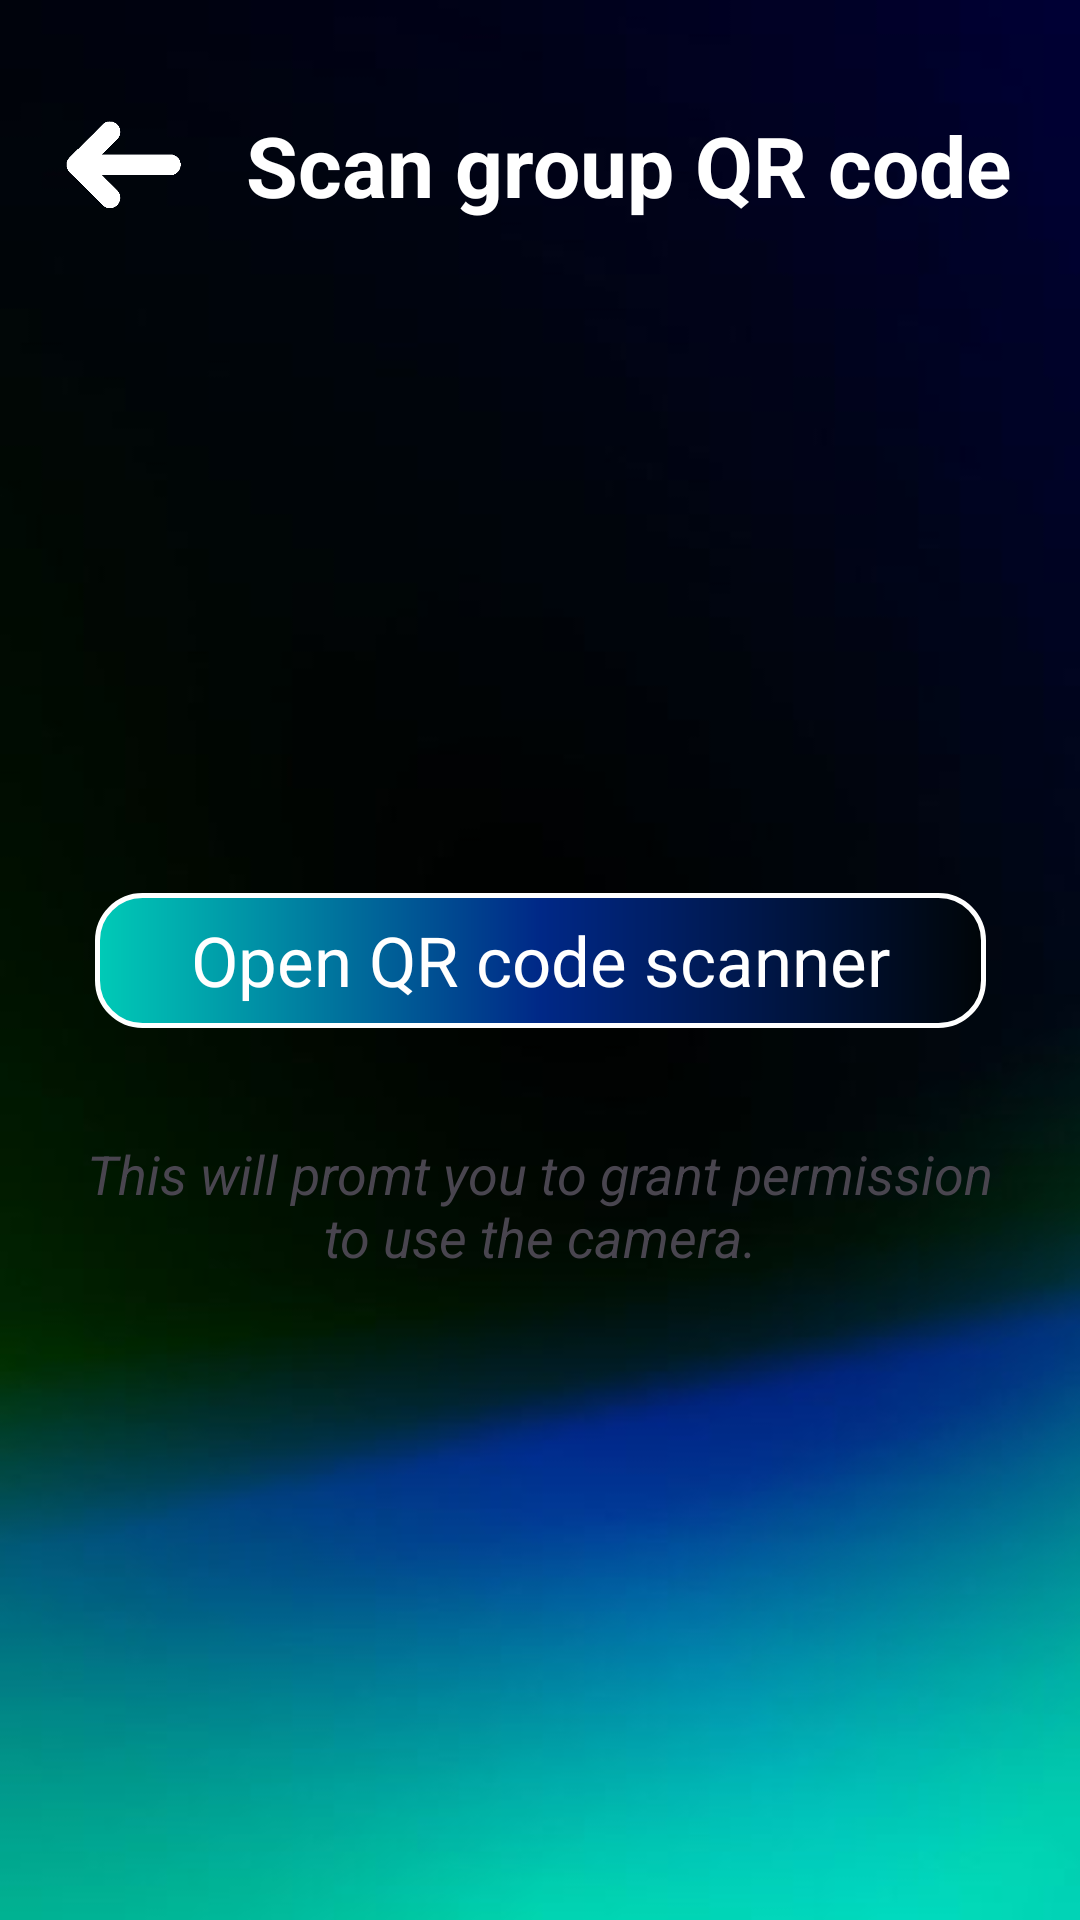

Icons on this 1080px x 1920px Android screen, each with the point to tap as point (x, y):
back arrow: point (123, 164)
